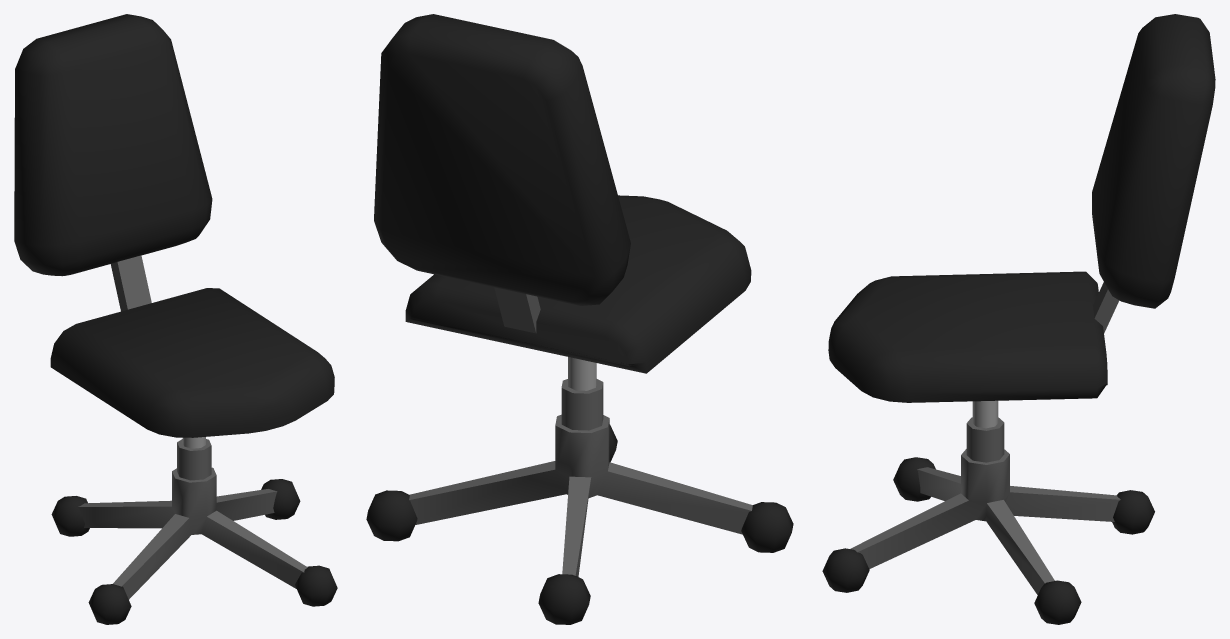
The model's file is Meeting-Chair.fbx.
3 views of the same model, side by side, from view 1: azimuth 30°, elevation 25°; view 2: azimuth 150°, elevation 25°; view 3: azimuth 270°, elevation 25° (orthographic). The views are drawn at different scales.
Visible parts, largest first — view 1: Meeting-Chair; view 2: Meeting-Chair; view 3: Meeting-Chair.
Boxes of the visible parts, left/top/right/bottom form: Meeting-Chair: left=14, top=14, right=337, bottom=624; Meeting-Chair: left=366, top=14, right=793, bottom=624; Meeting-Chair: left=822, top=14, right=1215, bottom=624.
Size of the model in its own units: 1.04 by 1.74 by 1.2.
